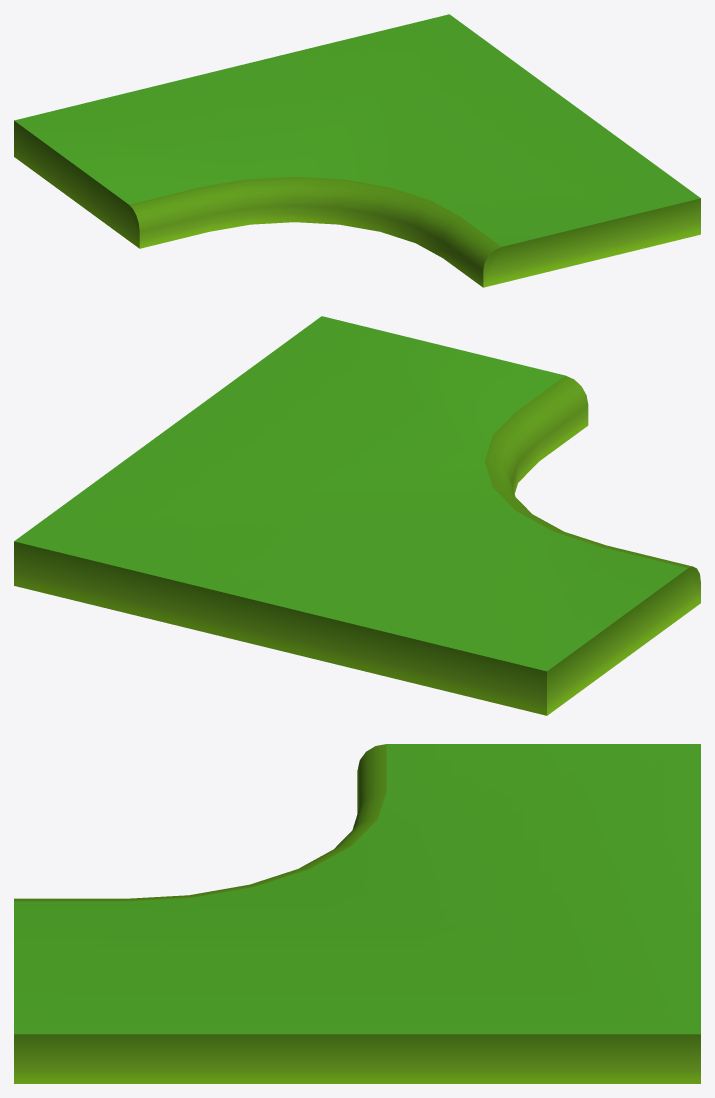
The model's file is GF_ICorner_1_2.glb.
The picture shows the model from 3 angles, top to bottom: view 1: azimuth 30°, elevation 25°; view 2: azimuth 150°, elevation 25°; view 3: azimuth 270°, elevation 25°; orthographic projection. The views are drawn at different scales.
Visible parts, largest first — view 1: GF_ICorner_1_2; view 2: GF_ICorner_1_2; view 3: GF_ICorner_1_2.
Part boxes in pixels (x1,y1,x2,y2): GF_ICorner_1_2: (14,14,700,287); GF_ICorner_1_2: (14,316,700,715); GF_ICorner_1_2: (14,744,700,1083).
Bounding box in the file's own units: 4 × 0.3187 × 4.
Materials: 1 (1 with a texture image).
